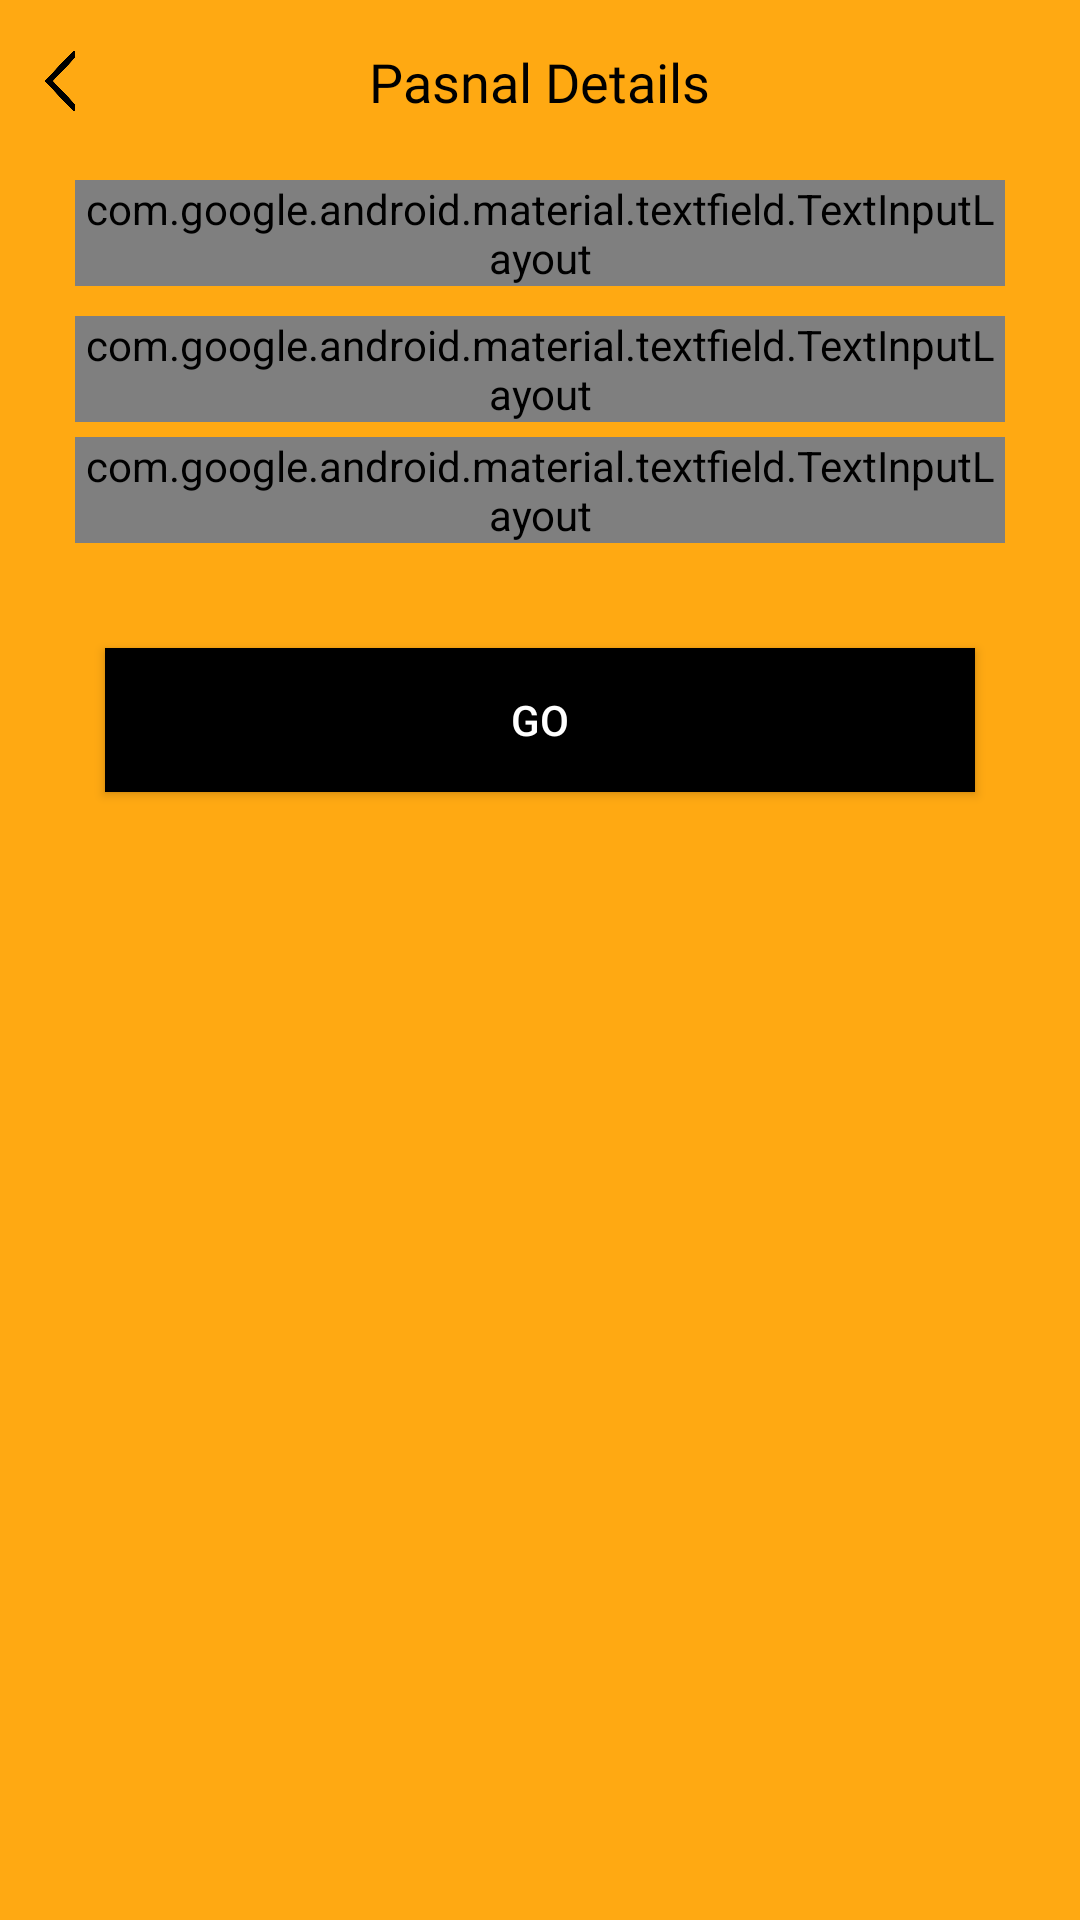

Screen size 1080px x 1920px. Icon name, then its box in pixels as bbox=[x1, y1, x2, y2]:
left: bbox=[45, 51, 75, 111]
